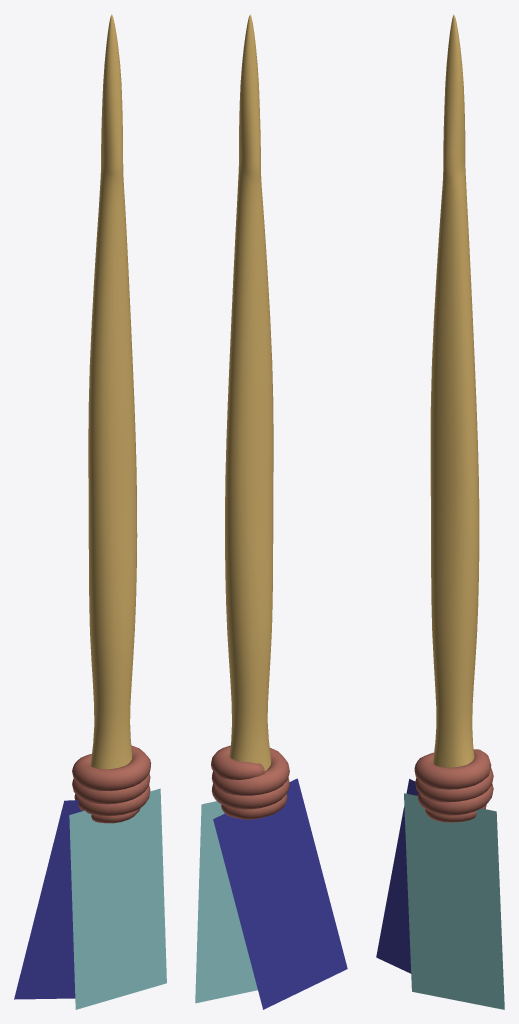
File: Arrow_02_low.fbx
3 views of the same model, side by side, from view 1: azimuth 30°, elevation 25°; view 2: azimuth 210°, elevation 25°; view 3: azimuth 330°, elevation 25° (orthographic).
Parts seen in each view (by area): view 1: Staff_low, Feather_01_low, Feather_02_low, Rope_low; view 2: Staff_low, Feather_02_low, Feather_01_low, Rope_low; view 3: Staff_low, Feather_01_low, Rope_low, Feather_02_low.
Part boxes in pixels (<box>): Staff_low: <box>88,14,137,769</box>; Feather_01_low: <box>69,788,166,1009</box>; Feather_02_low: <box>14,800,82,999</box>; Rope_low: <box>72,745,151,823</box>; Staff_low: <box>225,14,273,770</box>; Feather_02_low: <box>213,778,347,1009</box>; Feather_01_low: <box>195,801,257,1003</box>; Rope_low: <box>211,745,289,819</box>; Staff_low: <box>430,14,479,767</box>; Feather_01_low: <box>404,793,504,1009</box>; Rope_low: <box>414,749,493,822</box>; Feather_02_low: <box>376,779,418,973</box>.
Size of the model in its own units: 1.42 by 9.55 by 0.6902.
